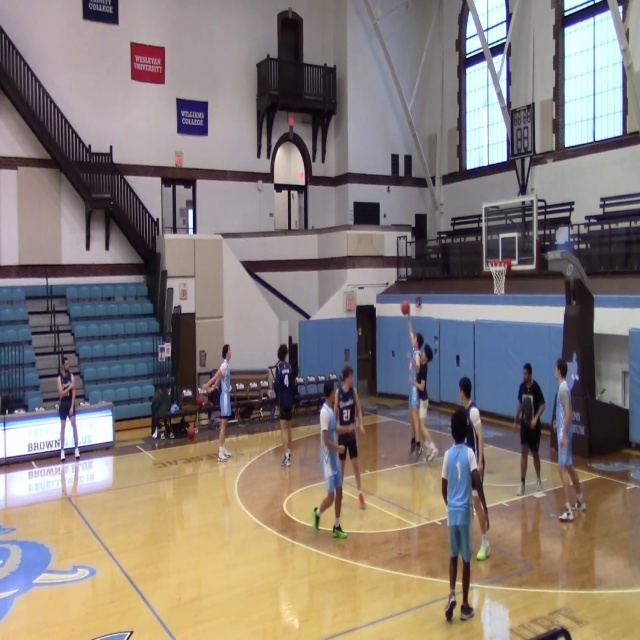Basketball: (400, 301, 409, 315), (196, 394, 205, 405)
